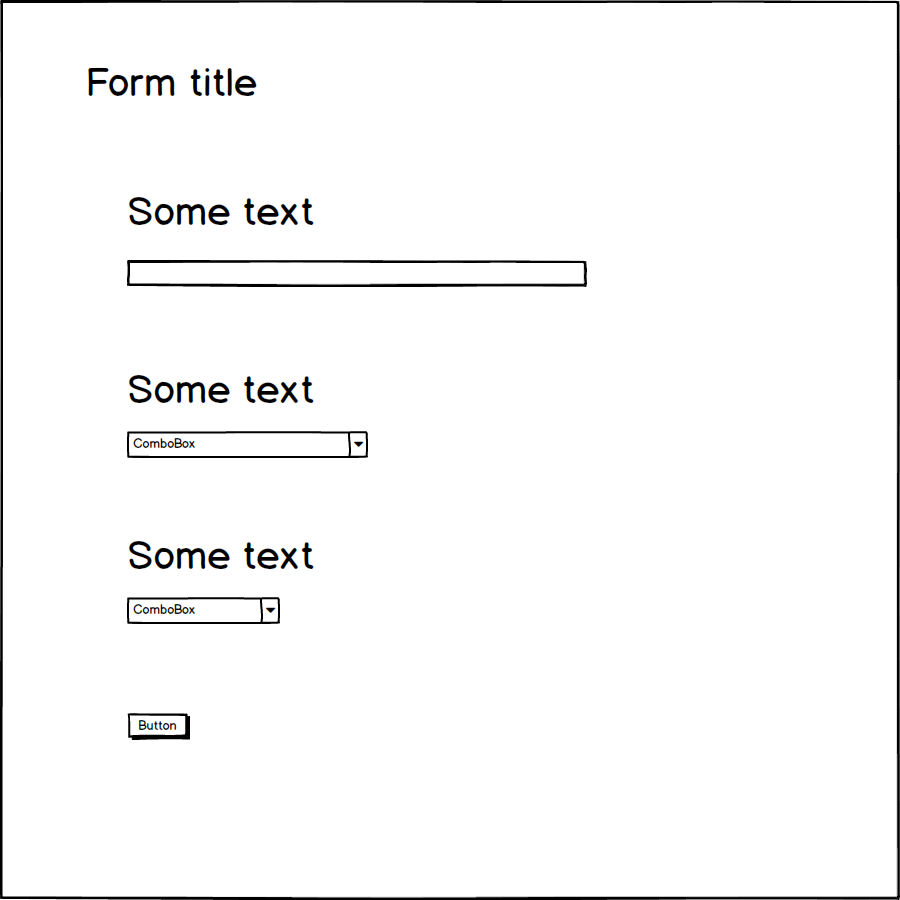button: (122, 707, 202, 751)
h1: (76, 52, 264, 114)
input: (126, 252, 596, 296)
label: (123, 532, 333, 580), (123, 366, 324, 415), (123, 185, 318, 234)
select_box: (122, 428, 375, 466), (120, 592, 290, 629)
